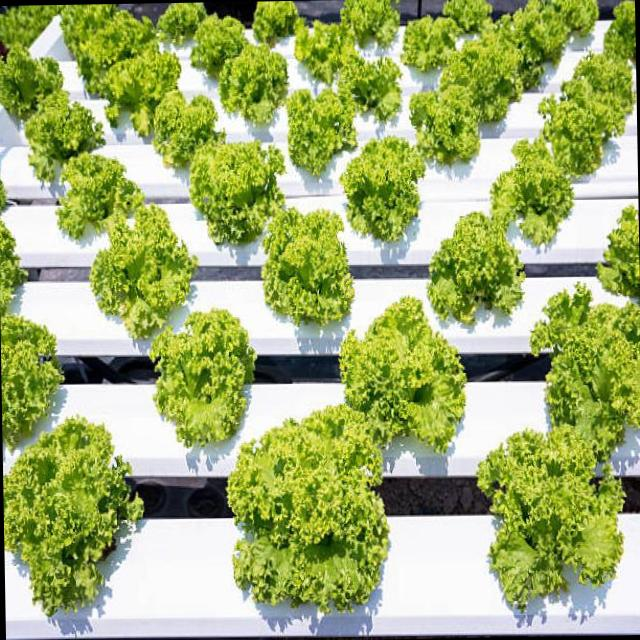Lettuce-Ready-to-Harvest: (466, 431, 633, 618), (226, 426, 384, 617), (4, 420, 141, 606), (336, 302, 476, 452), (527, 283, 640, 444), (91, 212, 224, 343), (157, 305, 272, 444), (424, 211, 537, 316), (261, 215, 350, 328), (342, 132, 428, 242), (187, 138, 286, 225), (45, 137, 146, 221), (485, 154, 573, 247), (271, 86, 365, 169), (18, 88, 99, 166), (76, 3, 150, 87), (108, 48, 184, 125), (546, 91, 612, 177), (142, 91, 219, 162), (440, 54, 524, 118), (566, 54, 634, 128), (226, 52, 302, 118), (589, 212, 640, 310), (421, 88, 486, 158), (340, 57, 410, 116), (0, 44, 71, 102), (293, 19, 359, 80), (500, 0, 568, 56), (400, 6, 454, 74), (186, 18, 256, 66), (331, 0, 402, 46), (248, 0, 304, 45), (152, 2, 210, 42), (602, 0, 635, 65), (537, 0, 599, 31), (438, 0, 493, 27)
